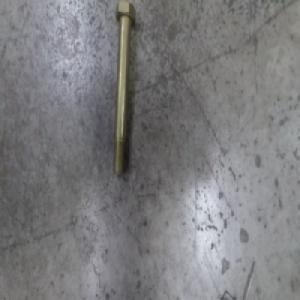Bolt: (111, 0, 136, 177)
